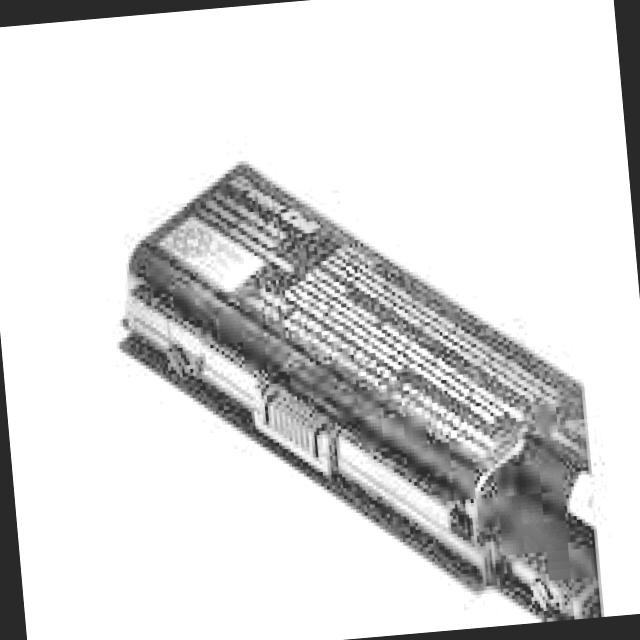Battery: (114, 132, 609, 640)
